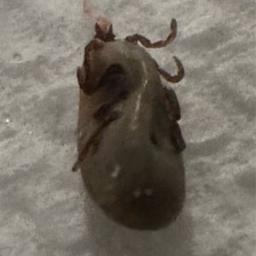Rhipicephalus sanguineus: (71, 16, 185, 232)
